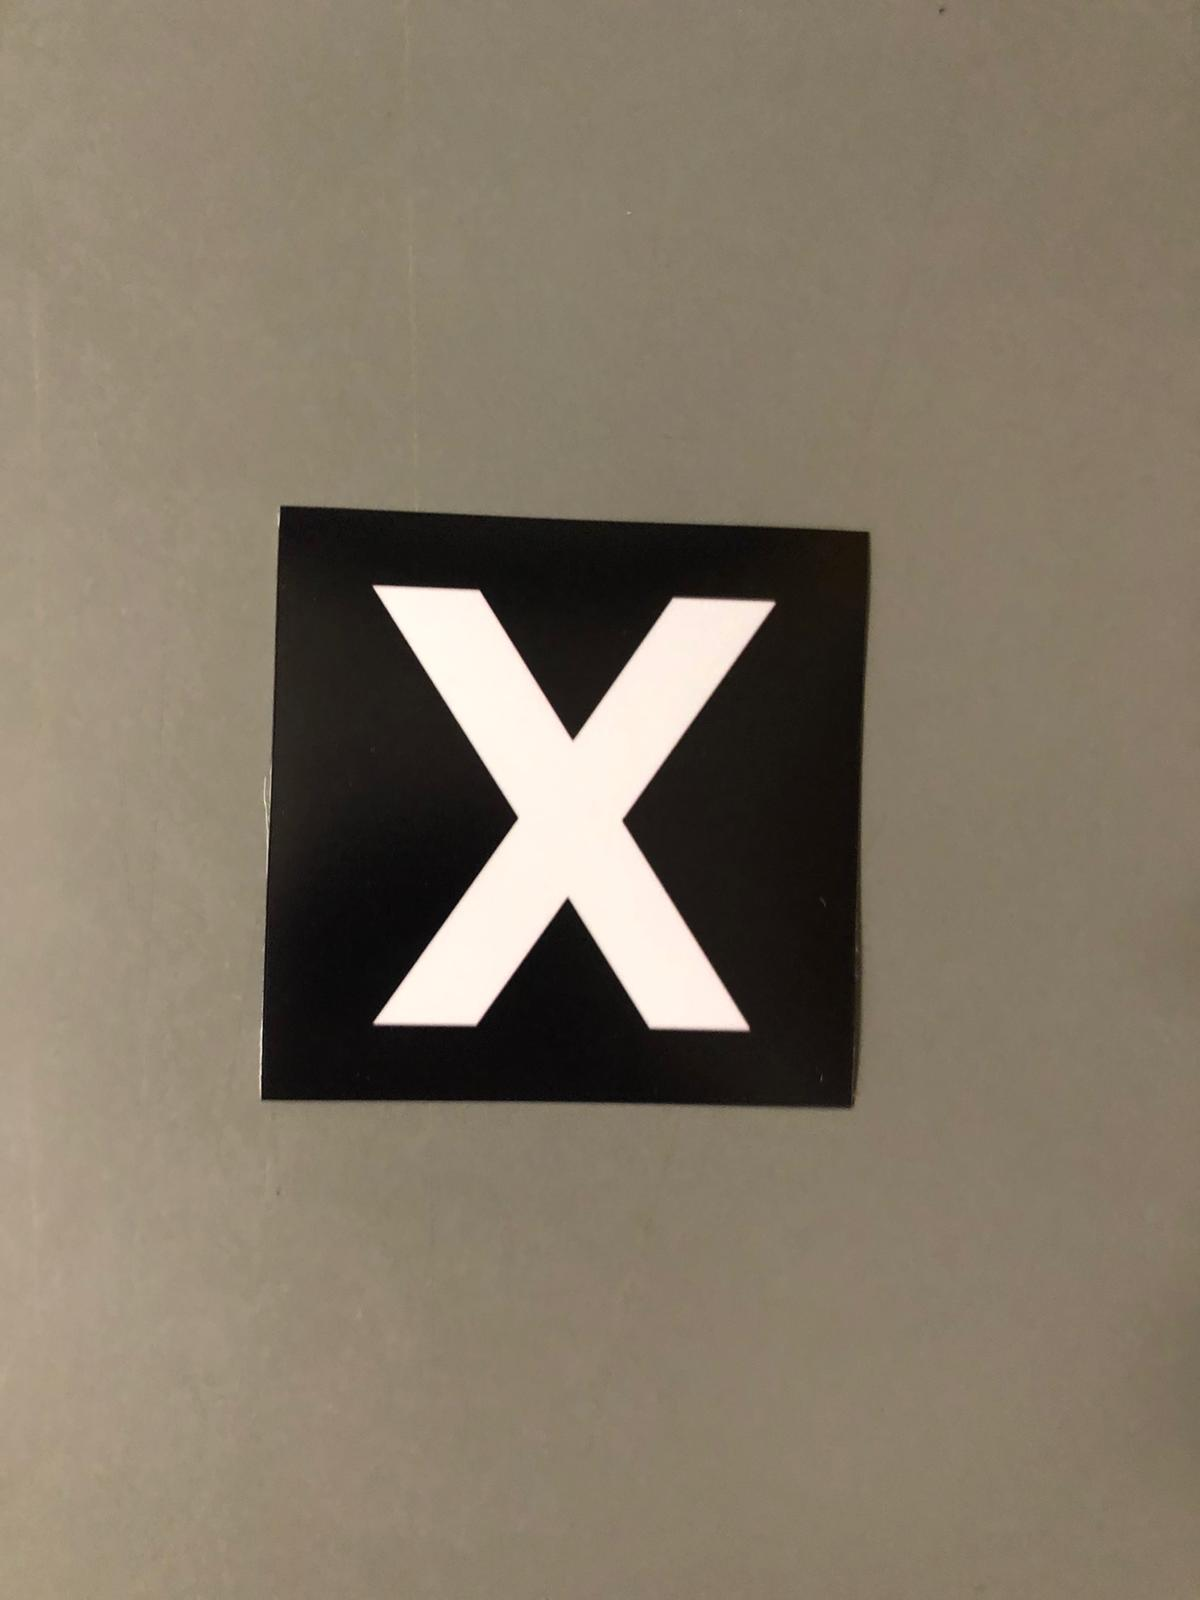X: (272, 511, 838, 1099)
